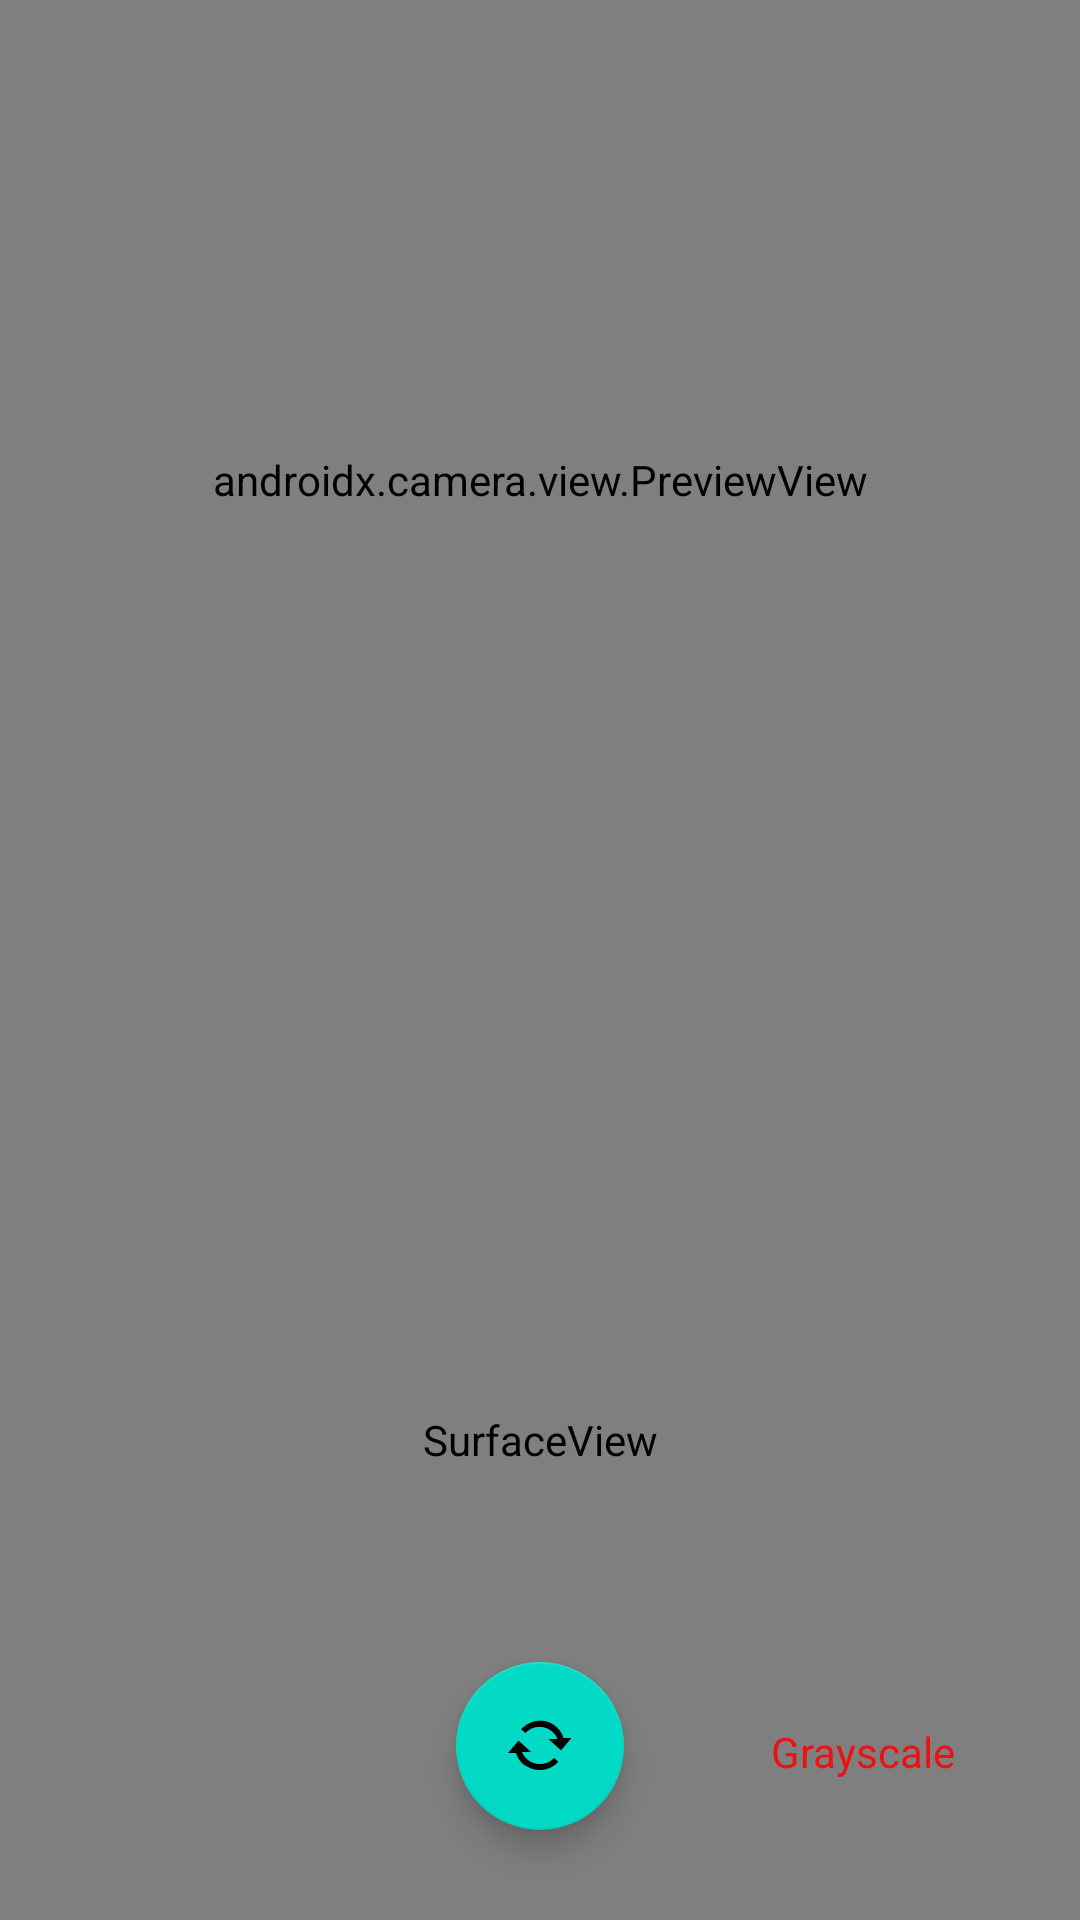

Where icons sit on this 1080x1920 app screen, as (x1=x1, y1=y1, x2=x2, y2=y2):
Flip Camera: (x1=456, y1=1662, x2=624, y2=1830)
